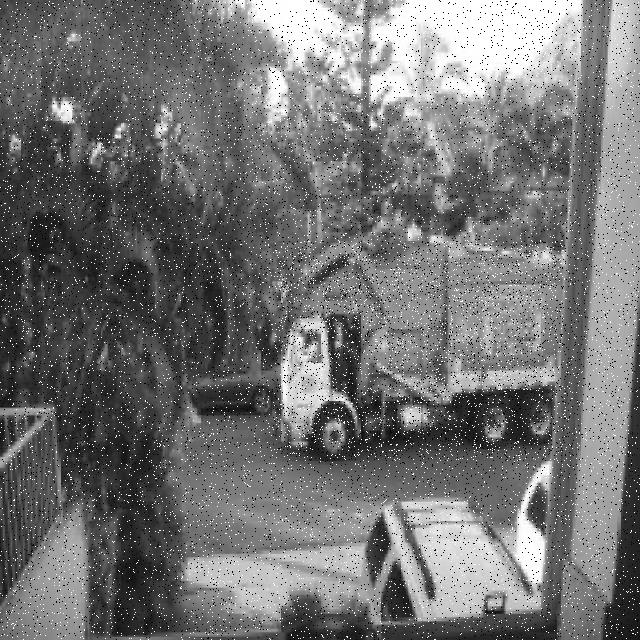Garbage Truck: (275, 241, 566, 461)
